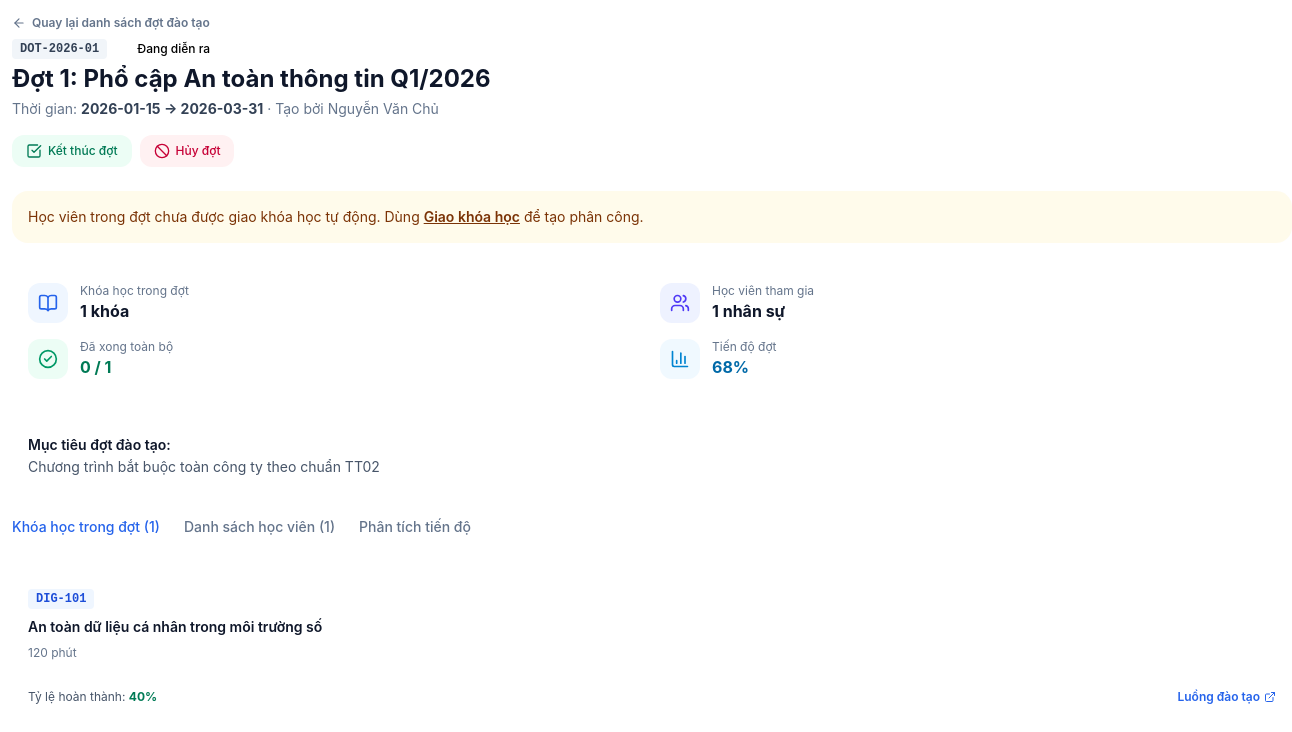
TrainingBatchPages (Agent 1 - Phase D) › TrainingBatchDetailPage › switches to participants tab and shows employee row with G1 job grade
Click the button "Danh sách học viên (1)" at (260, 533), box [184, 517, 335, 549]
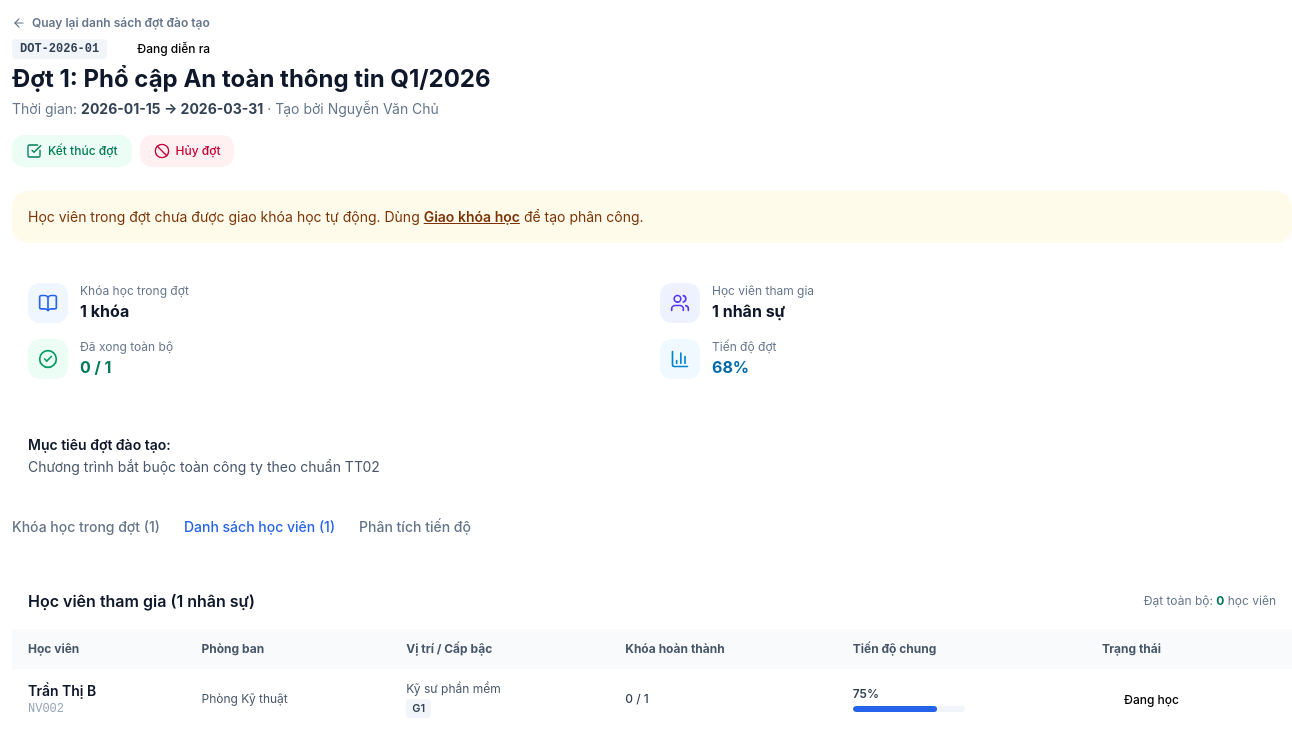
Expected: the link "Trần Thị B" is shown, [28, 682, 96, 699]
Expected: the text "NV002" is shown, [28, 702, 64, 716]
Expected: the text "G1" is shown, [406, 699, 431, 718]
